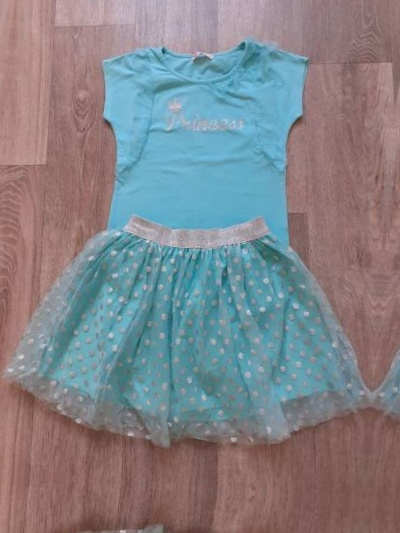Dress: (4, 32, 389, 468), (376, 62, 400, 498), (0, 507, 352, 533)
